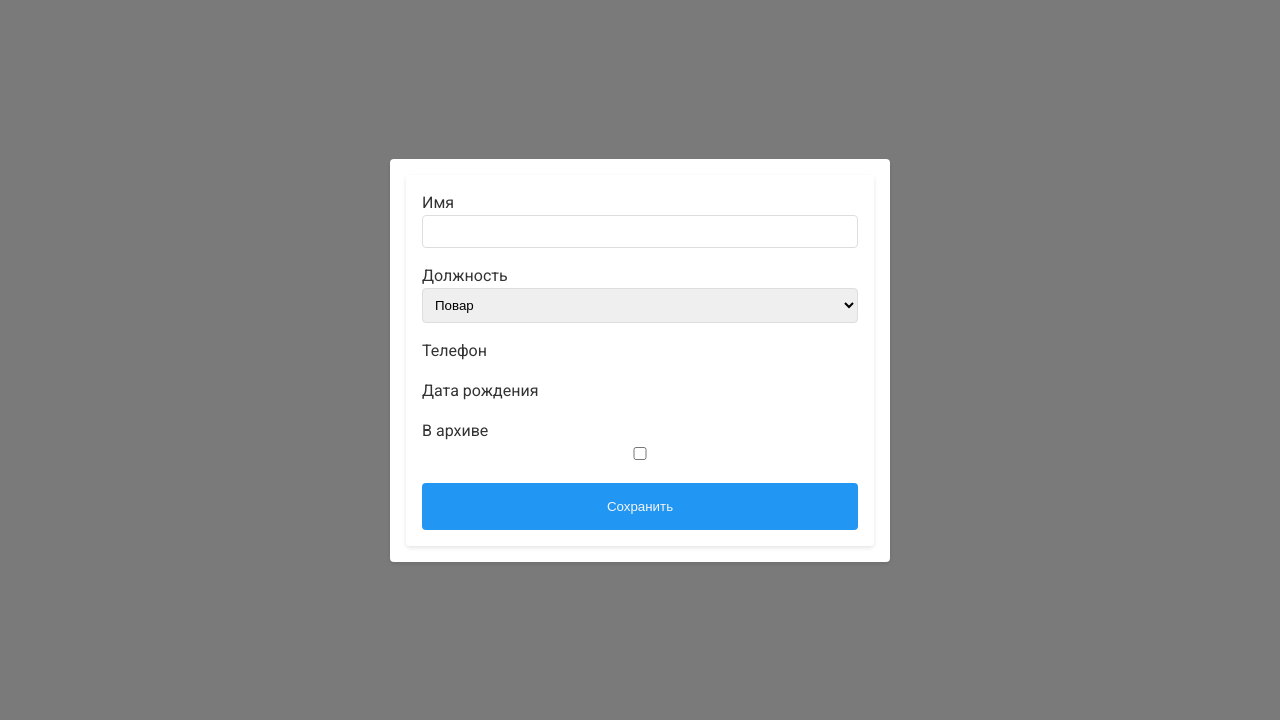
it: EmployeeForm › показывает ошибки валидации при некорректных данных
Step 1. Click the button "Сохранить" → {"x": 640, "y": 506}, box [422,482,858,530]
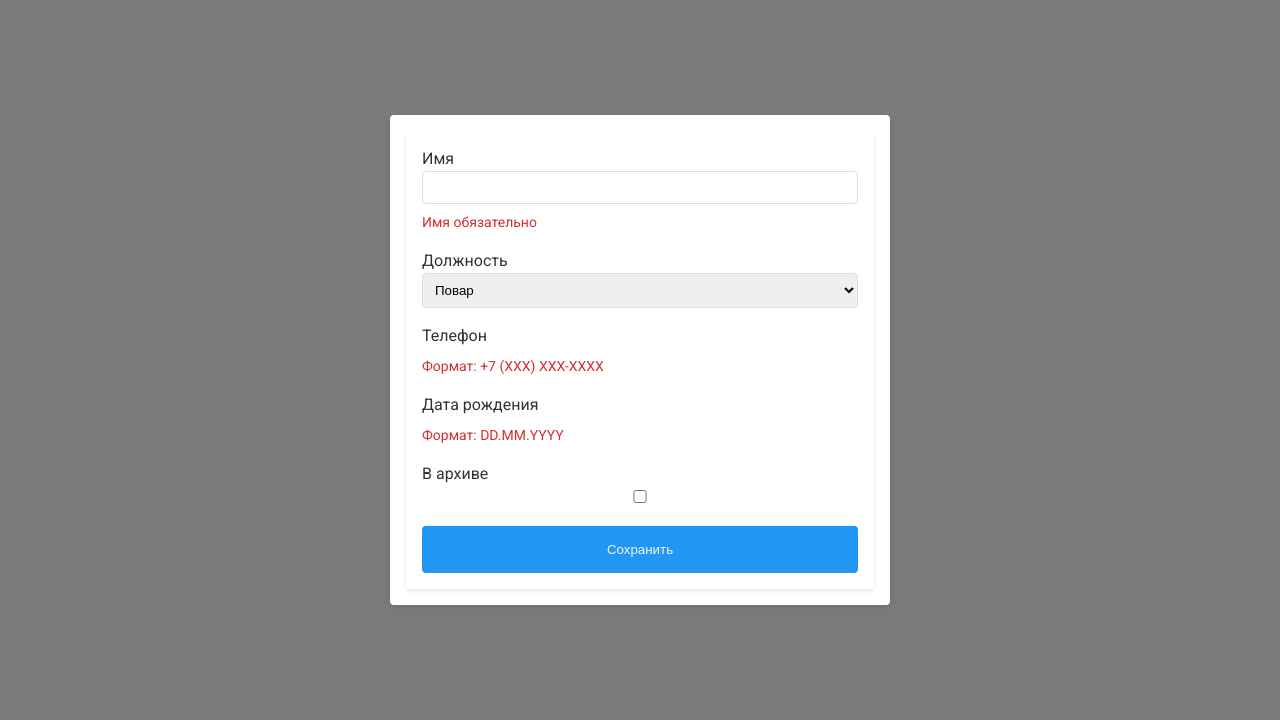
Expected: the text "Имя обязательно" is shown, [422,214,537,230]
Expected: the text "Формат: +7 (XXX) XXX-XXXX" is shown, [422,358,604,374]
Expected: the text "Формат: DD.MM.YYYY" is shown, [422,427,564,443]
